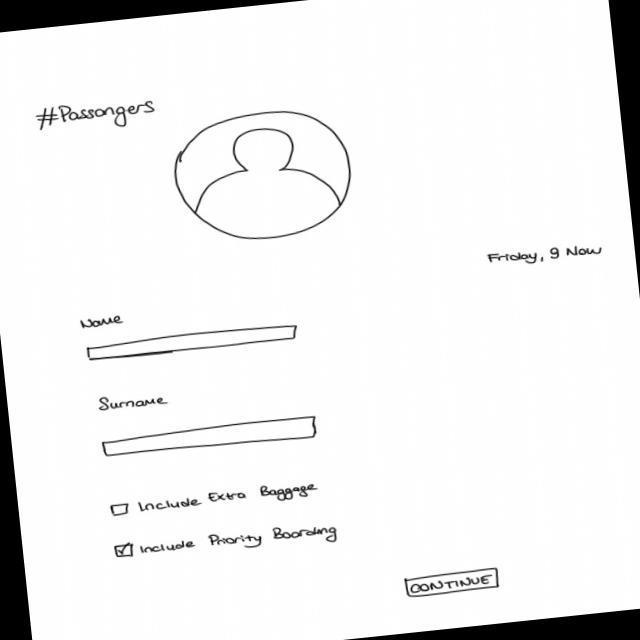button: (403, 565, 502, 600)
checkbox: (113, 520, 340, 568), (108, 480, 323, 522)
image: (167, 103, 361, 250)
input: (101, 414, 320, 462), (85, 321, 301, 364)
label: (35, 95, 161, 138), (485, 241, 606, 270), (97, 389, 171, 414), (78, 315, 125, 332)
